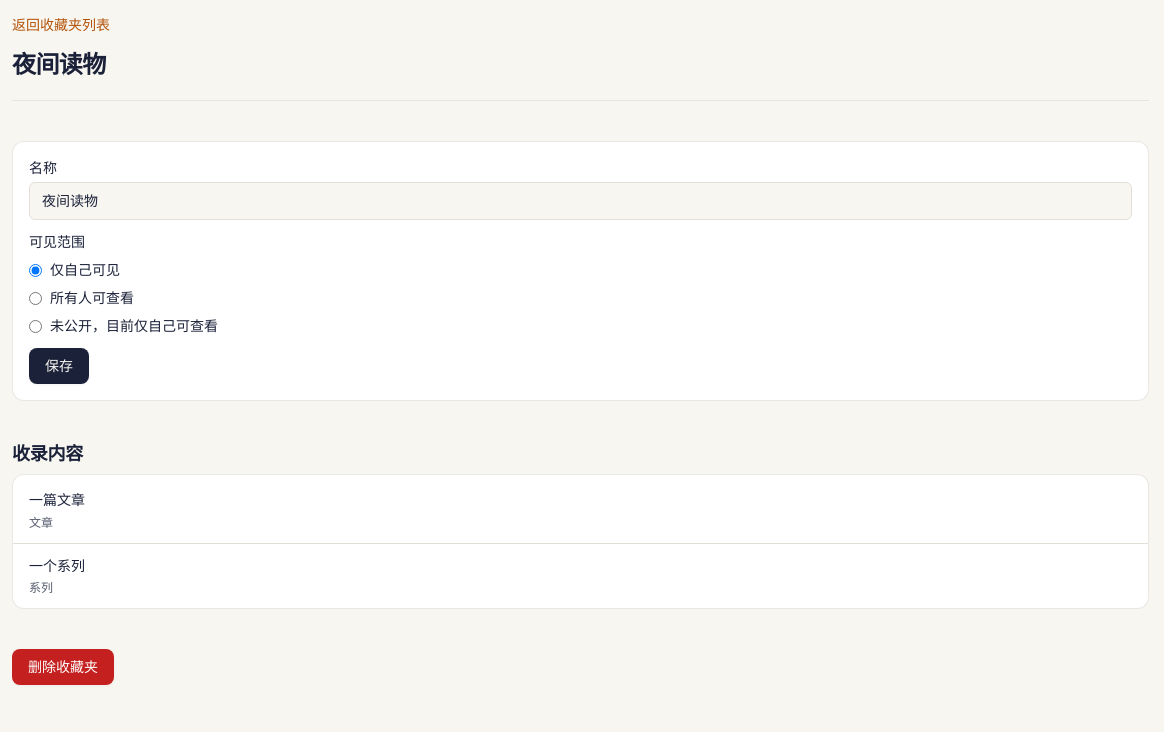
Scenario: CollectionManagePage › renames via PATCH and keeps the server title
The image size is (1164, 732).
Check: the heading "夜间读物" is shown, box x1=12 y1=47 x2=106 y2=80
Step 1. Replace the text in the field labelled "名称" with "改名后" → (580, 201), box x1=29 y1=182 x2=1132 y2=220
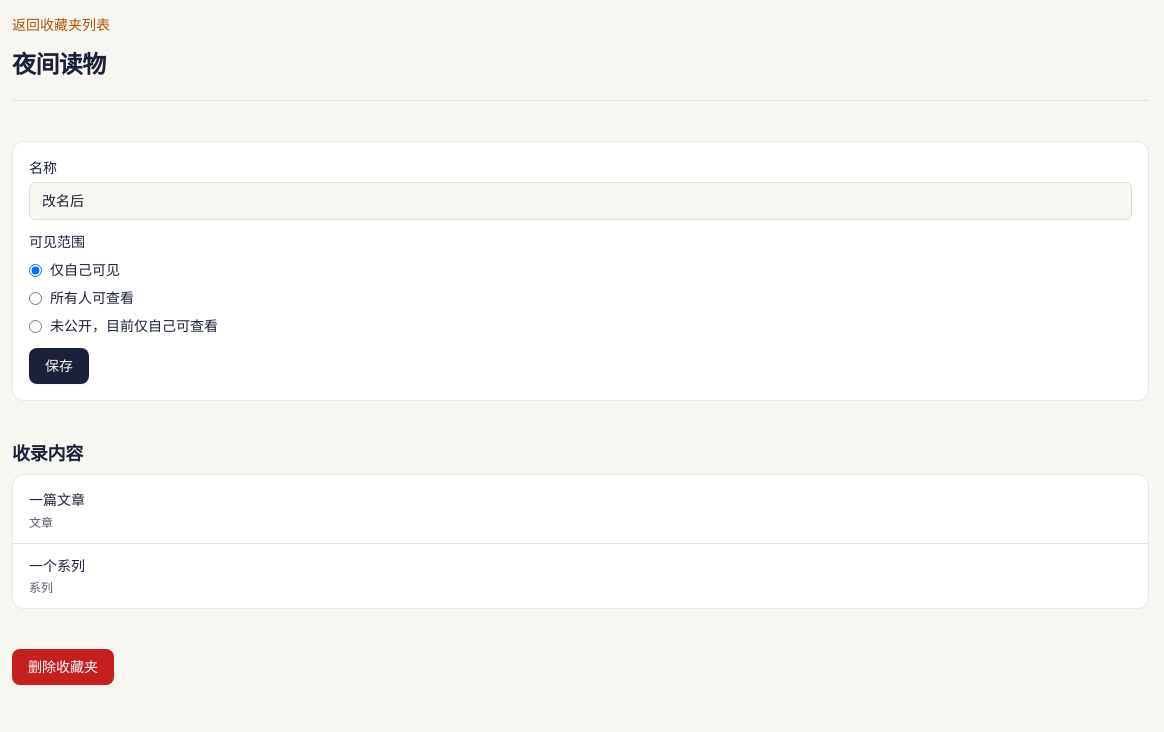
Step 2. Click the button "保存" → click(59, 366), box x1=29 y1=348 x2=89 y2=384
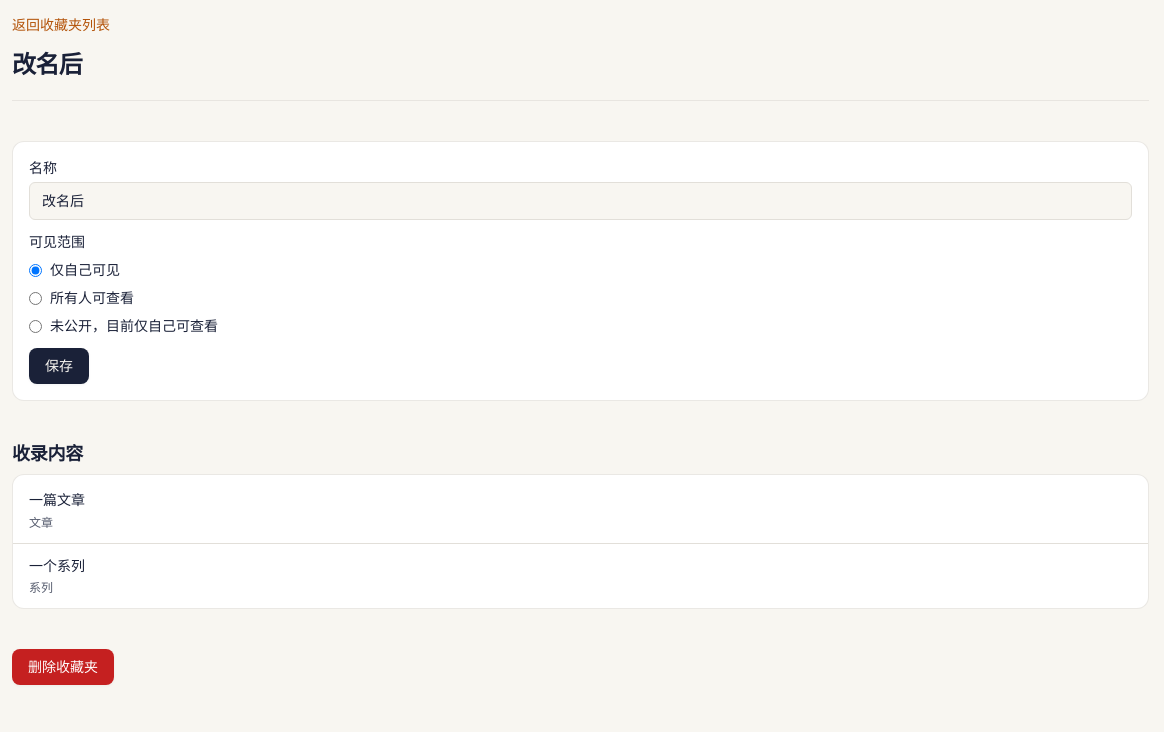
Check: the heading "改名后" is shown, box x1=12 y1=47 x2=82 y2=80
